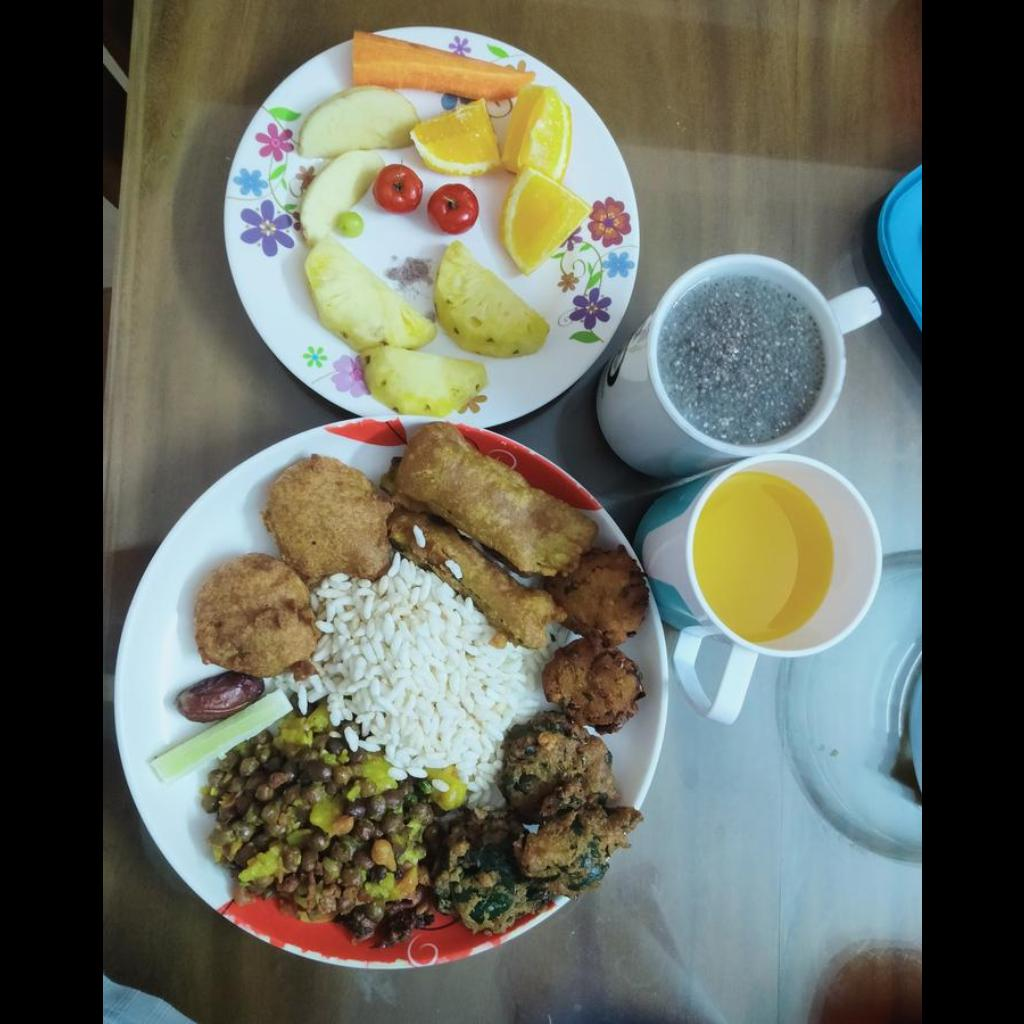apple: (297, 92, 407, 237)
beguni: (392, 425, 603, 643)
carrot: (352, 32, 532, 101)
chola: (204, 712, 434, 926)
chop-alu: (195, 459, 391, 669)
dates: (174, 670, 264, 722)
juice: (657, 275, 823, 444), (690, 477, 832, 648)
lemon: (149, 684, 291, 781)
orange: (419, 88, 590, 272)
peyaju: (489, 550, 644, 878)
pineapple: (308, 235, 544, 409)
puffed-rice: (307, 556, 540, 796)
